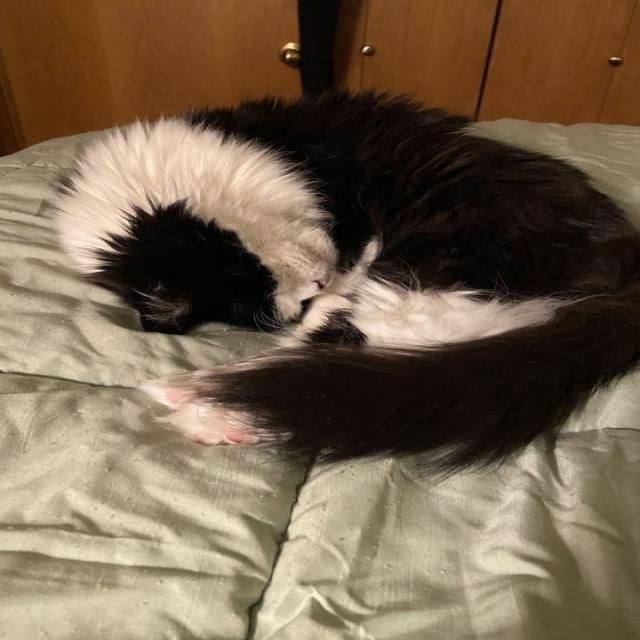domestic_long_hair_cat: (42, 164, 370, 338)
